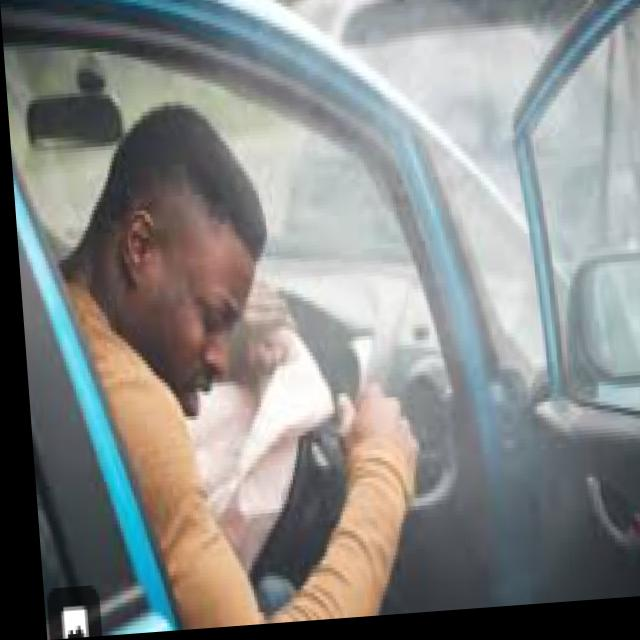injury: (72, 114, 272, 434)
